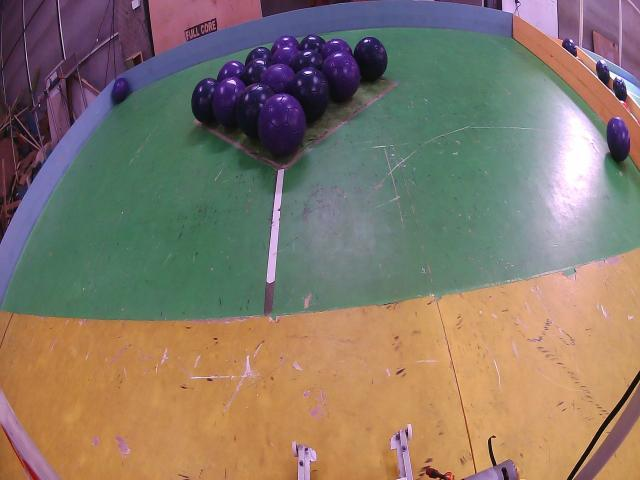jambhalya: (258, 93, 306, 157), (321, 52, 360, 102), (212, 77, 245, 128), (606, 117, 630, 162), (260, 63, 295, 93), (321, 38, 352, 58), (271, 45, 299, 67), (218, 60, 244, 82), (271, 35, 299, 52)
kaalyya: (289, 67, 330, 122), (236, 83, 274, 137), (354, 37, 388, 82), (191, 78, 218, 122), (241, 58, 270, 87), (291, 50, 324, 73), (111, 78, 130, 103), (245, 47, 271, 64), (299, 35, 325, 52), (612, 77, 628, 102), (596, 60, 610, 85), (561, 38, 578, 57)
